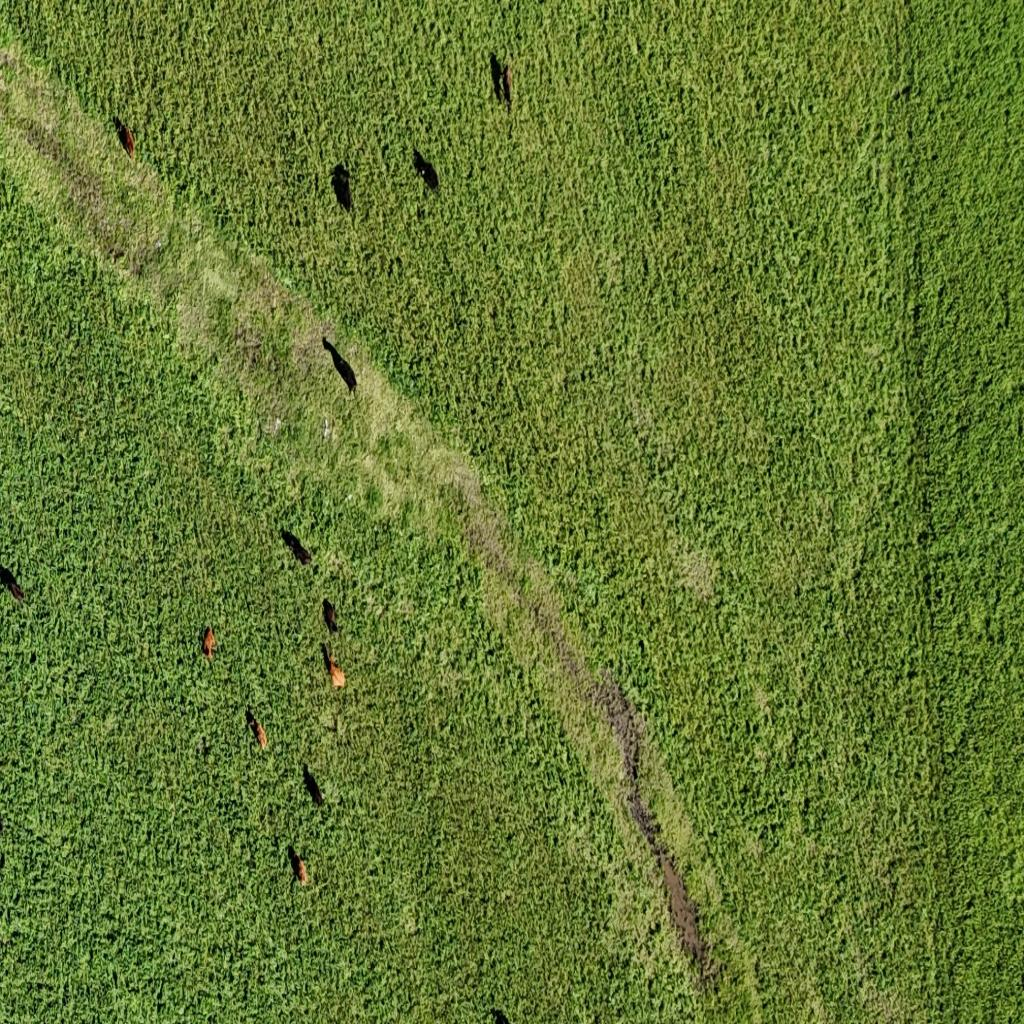cow: (322, 335, 358, 397), (282, 528, 315, 568), (412, 148, 439, 195), (492, 52, 514, 109), (330, 163, 353, 215), (322, 646, 346, 692), (0, 562, 26, 604), (302, 761, 324, 809), (245, 708, 267, 752), (114, 117, 136, 159), (288, 846, 308, 886), (322, 598, 340, 636), (202, 625, 217, 660), (412, 146, 425, 172), (489, 1008, 510, 1024), (490, 49, 502, 75), (245, 707, 258, 729), (196, 736, 208, 758), (0, 834, 5, 870)
